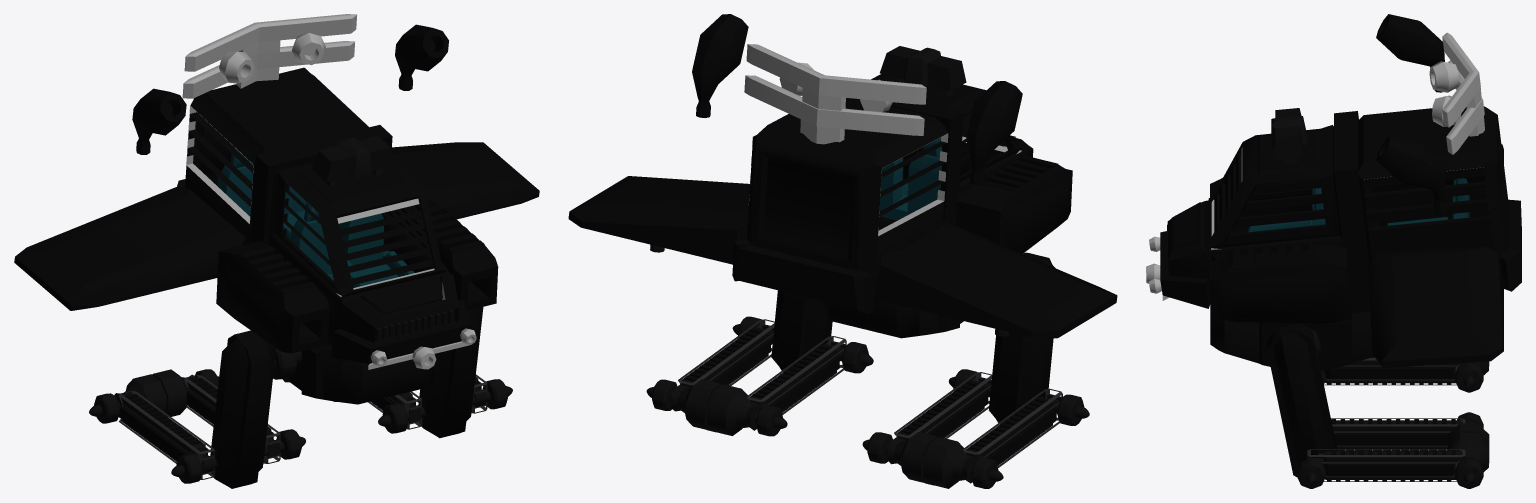
Rendered from Reside.obj.
The picture shows the model from 3 angles, left to right: view 1: azimuth 30°, elevation 25°; view 2: azimuth 150°, elevation 25°; view 3: azimuth 270°, elevation 25°; orthographic projection. The views are drawn at different scales.
Parts seen in each view (by area): view 1: mech_f_432:Mesh; view 2: mech_f_432:Mesh; view 3: mech_f_432:Mesh.
Boxes of the visible parts, box(x1,y1,x2,y2) form: mech_f_432:Mesh: box(14, 14, 539, 488); mech_f_432:Mesh: box(568, 14, 1117, 488); mech_f_432:Mesh: box(1146, 14, 1521, 488).
Bounding box in the file's own units: 2.39 × 1.82 × 1.73.
